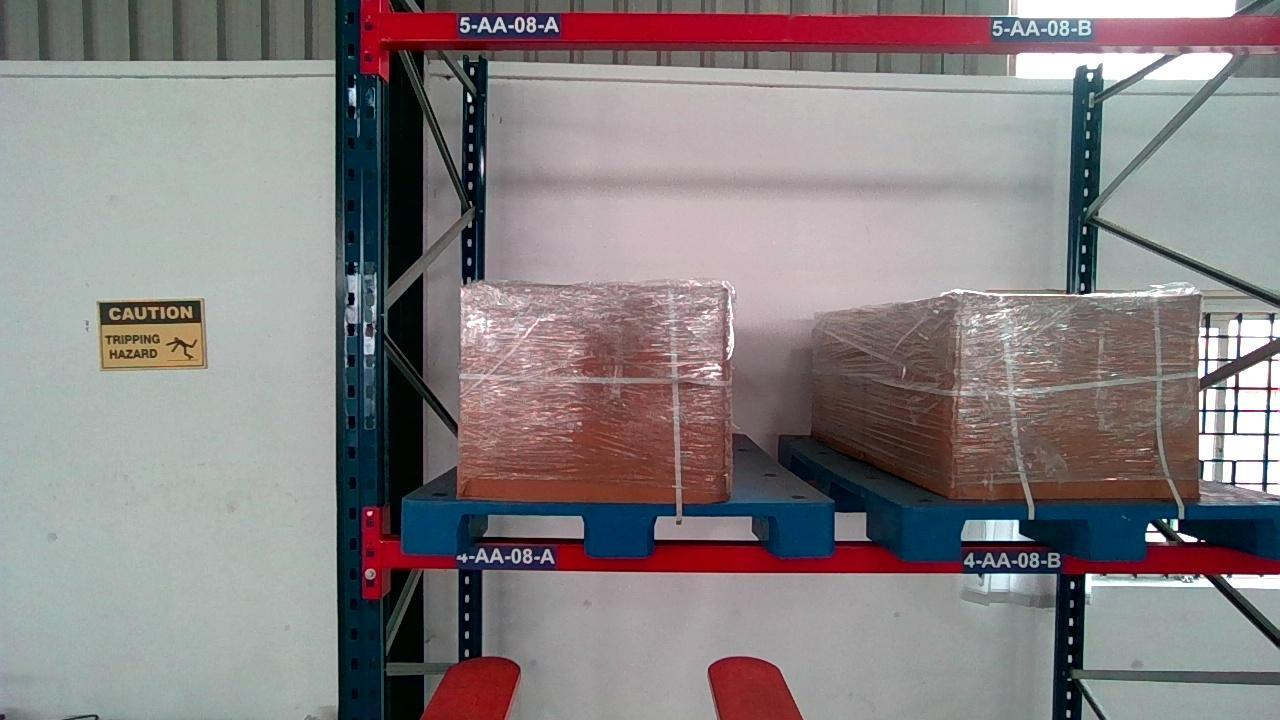h_rack: (382, 10, 1280, 43), (384, 540, 1276, 571)
small_pallet: (401, 499, 834, 557), (913, 502, 1278, 559)
